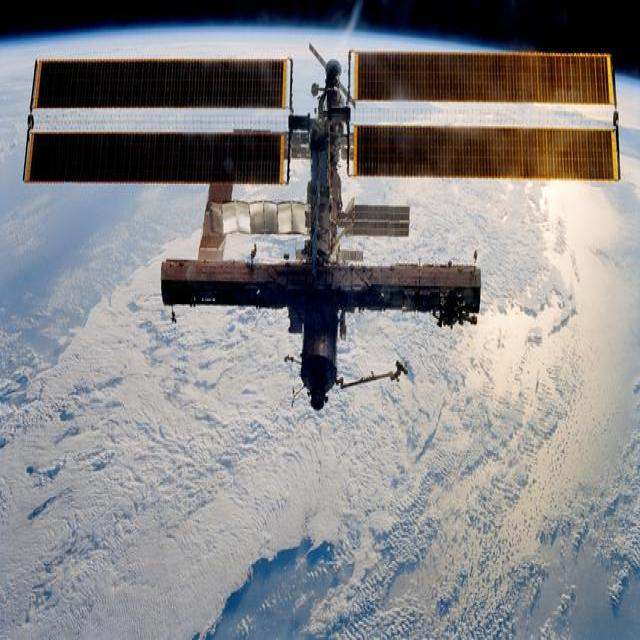satellite: (22, 43, 618, 415)
